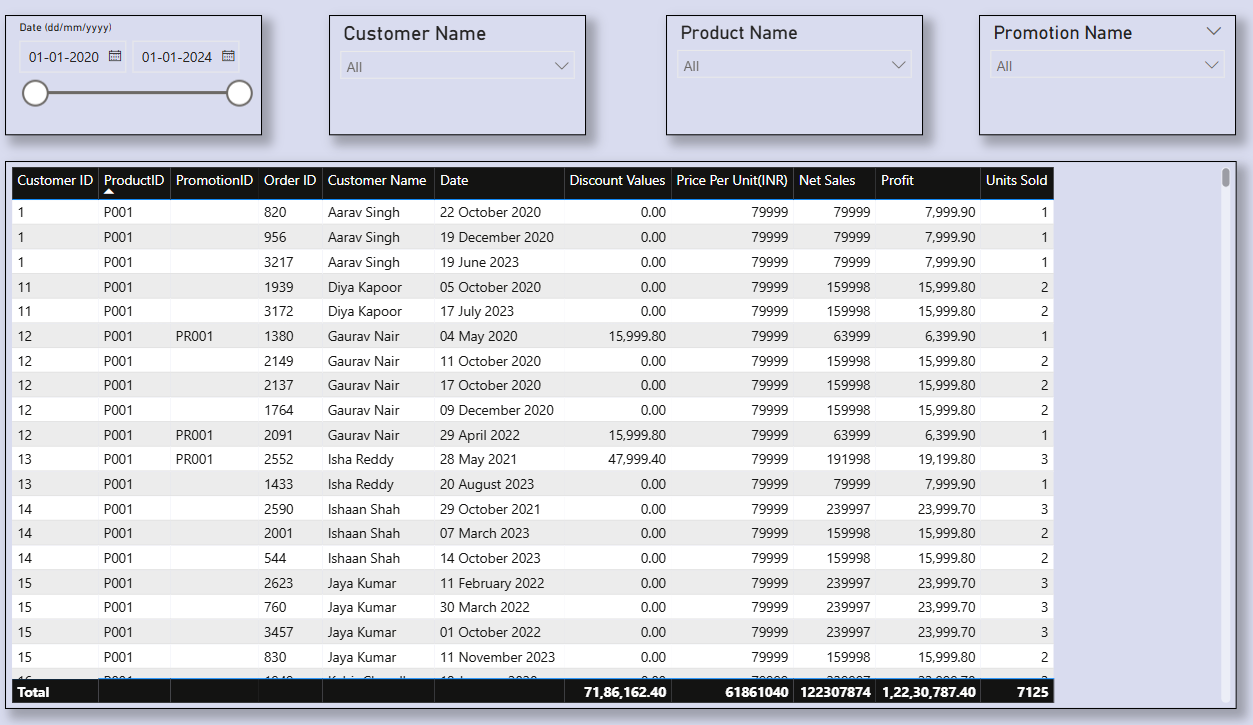

What the dashboard file says about the page in this screenshot:
{"tool":"powerbi","page":{"name":"table","canvas":[1280,720],"ordinal":0},"visuals":[{"type":"slicer","fields":{"Values":["fact data.Date (dd/mm/yyyy)"]},"box":[46.7,25.6,250,116.7],"z":0},{"type":"slicer","fields":{"Values":["Dim Promotion.Promotion Name"]},"box":[994.4,25.6,250,116.7],"z":1000},{"type":"slicer","fields":{"Values":["Dim Customers.Customer Name"]},"box":[362.2,25.6,250,116.7],"z":2000},{"type":"slicer","fields":{"Values":["Dim Product.Product Name"]},"box":[690,25.6,250,116.7],"z":3000},{"type":"tableEx","fields":{"Values":["Dim Customers.Customer ID","Dim Product.ProductID","Dim Promotion.PromotionID","fact data.Order ID","Dim Customers.Customer Name","fact data.Date (dd/mm/yyyy)","Sum(fact data.Discount Values )","Sum(fact data.Price Per Unit(INR))","Sum(fact data.Net Sales)","Sum(fact data.Profit)","Sum(fact data.Units Sold)"]},"box":[46.7,167.8,1197.8,533.3],"z":4000},{"type":"actionButton","box":[0,0,100,40],"z":5000}]}

Visuals, with their boxes in screenshot pixels (x1, y1, x2, y2), scaled from the page's 1280x720 canvas onto the 1253x725 screenshot:
slicer - fact data.Date (dd/mm/yyyy): select_region(46, 26, 290, 143)
slicer - Dim Promotion.Promotion Name: select_region(973, 26, 1218, 143)
slicer - Dim Customers.Customer Name: select_region(355, 26, 599, 143)
slicer - Dim Product.Product Name: select_region(675, 26, 920, 143)
tableEx - Dim Customers.Customer ID x Dim Product.ProductID: select_region(46, 169, 1218, 706)
actionButton: select_region(0, 0, 98, 40)
